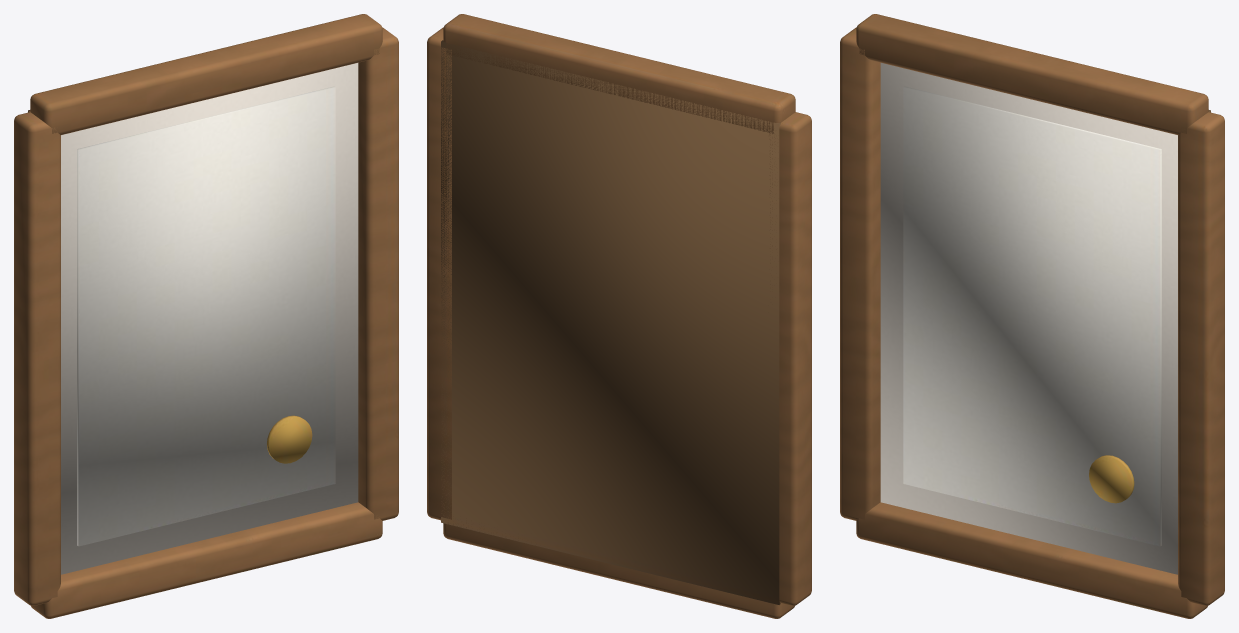
The model's file is keepsake-mc-certificate.glb.
The picture shows the model from 3 angles, left to right: view 1: azimuth 30°, elevation 25°; view 2: azimuth 150°, elevation 25°; view 3: azimuth 330°, elevation 25°; orthographic projection.
Parts seen in each view (by area): view 1: keepsake-mc-certificate; view 2: keepsake-mc-certificate; view 3: keepsake-mc-certificate.
Part boxes in pixels (bbox=[...]): keepsake-mc-certificate: bbox=[14, 14, 398, 618]; keepsake-mc-certificate: bbox=[427, 14, 811, 618]; keepsake-mc-certificate: bbox=[840, 14, 1224, 618].
Bounding box in the file's own units: 0.2561 × 0.34 × 0.0224.
Materials: 1 (1 with a texture image).
